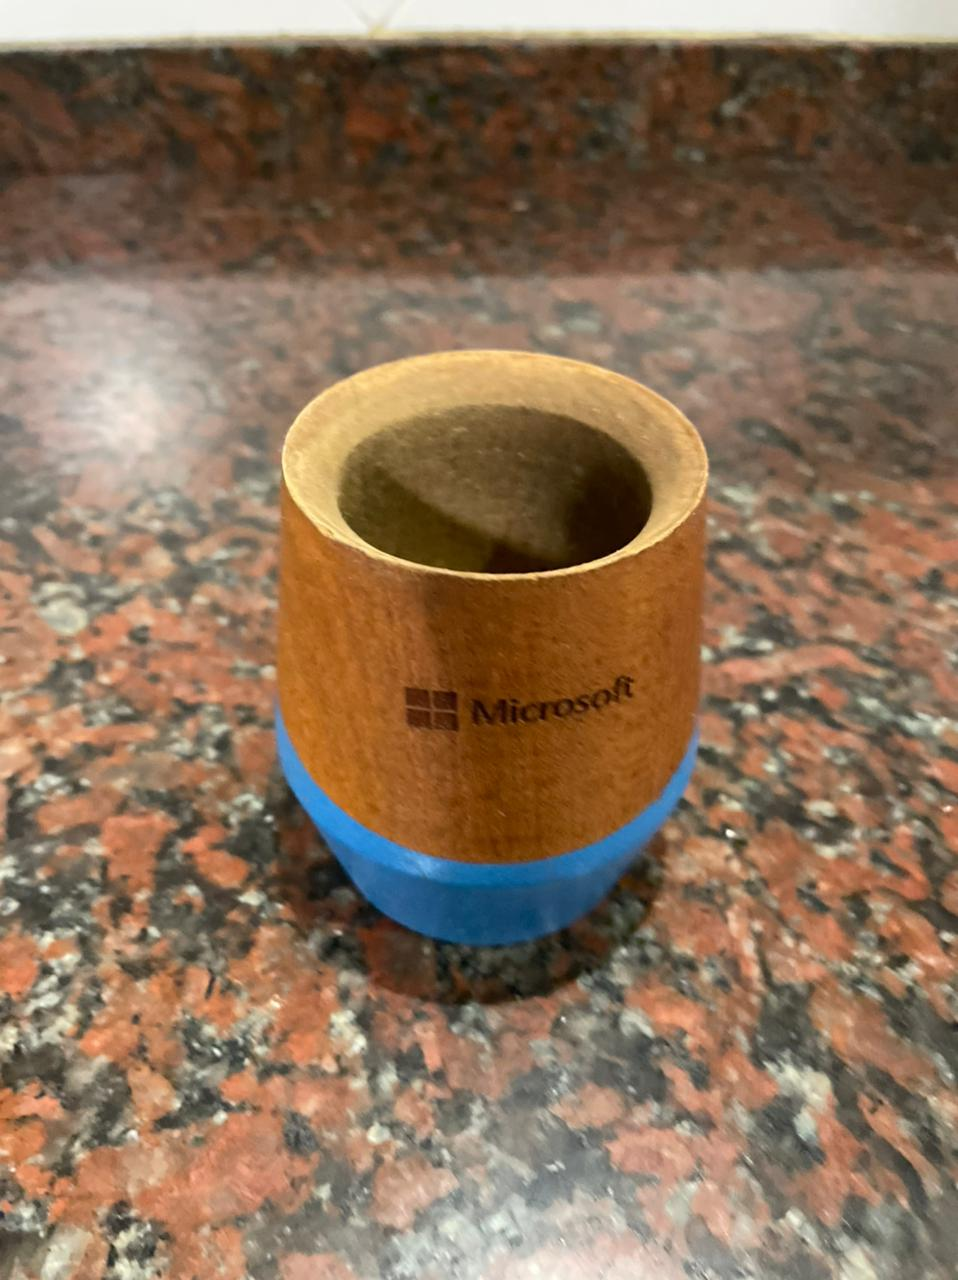madera: (248, 340, 718, 953)
mate: (246, 338, 717, 951)
